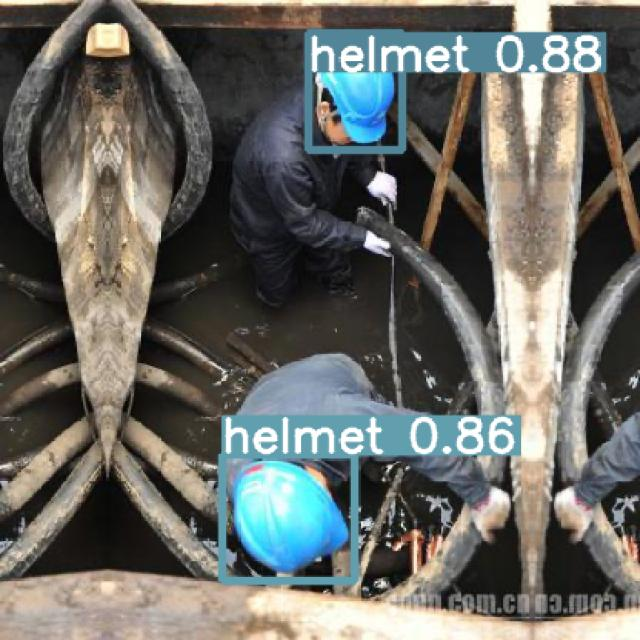helmet: (221, 454, 354, 580), (308, 32, 402, 150)
